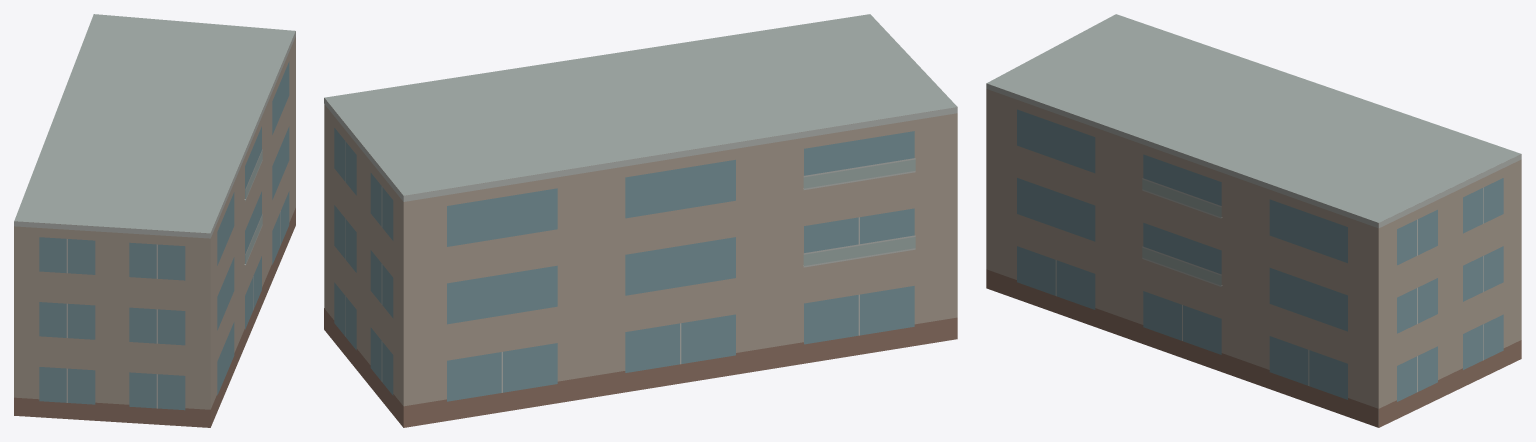
The model's file is survey-upis-32672866.glb.
3 renders of one model, left to right at view 1: azimuth 30°, elevation 25°; view 2: azimuth 150°, elevation 25°; view 3: azimuth 270°, elevation 25°, orthographic. The views are drawn at different scales.
Parts seen in each view (by area): view 1: survey-upis-32672866.tmp; view 2: survey-upis-32672866.tmp; view 3: survey-upis-32672866.tmp.
Boxes of the visible parts, x1,y1,x2,y2 form: survey-upis-32672866.tmp: (14,14,295,427); survey-upis-32672866.tmp: (324,14,957,427); survey-upis-32672866.tmp: (986,14,1521,427).
Bounding box in the file's own units: 20.01 × 9.15 × 21.66.
